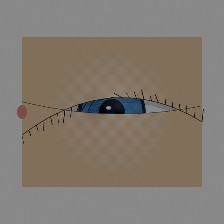pinguecula_lesion: (163, 91, 202, 123)
